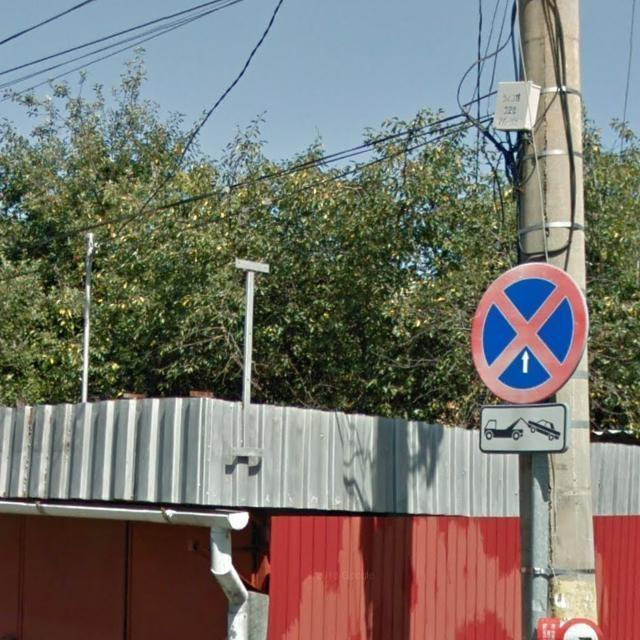forb_waiting: (468, 262, 586, 403)
